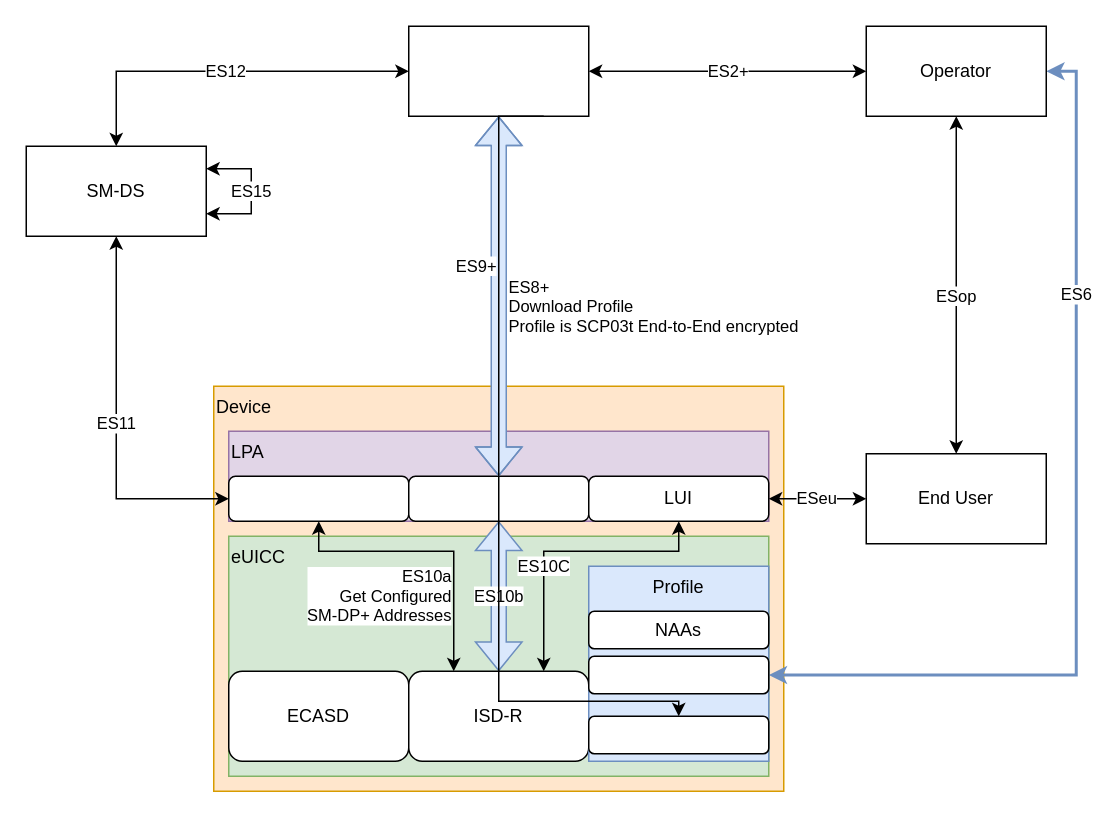
The diagram is 1118 pixels wide and 818 high, and some of its shapes have lost their labels. The centre of each missing label's shape, as x and y in pixels:
ISD-P: (678,734)
LDS: (318,498)
LPD: (498,498)
MNO-SD: (678,674)
SM-DP+: (498,70)
